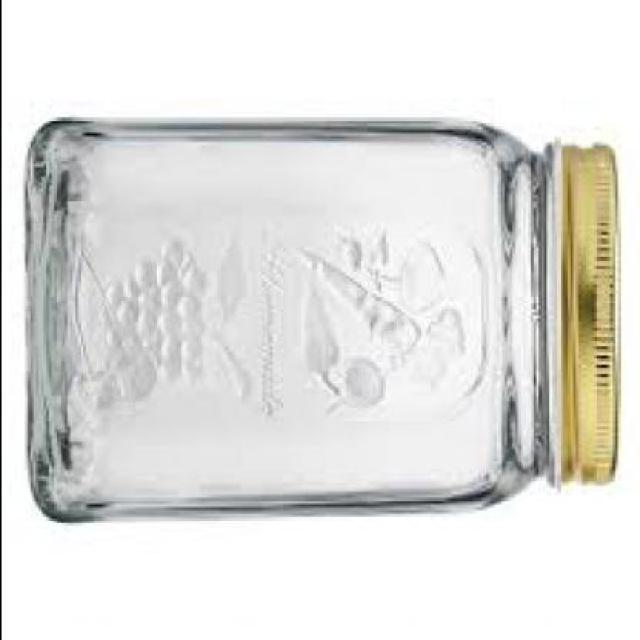GLASS: (28, 114, 564, 523)
METAL: (564, 142, 619, 486)
